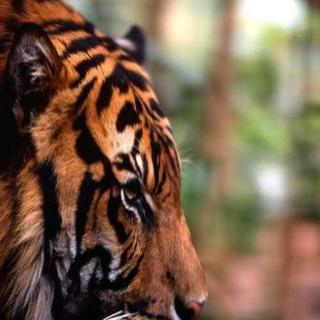Tiger: (0, 0, 223, 320)
